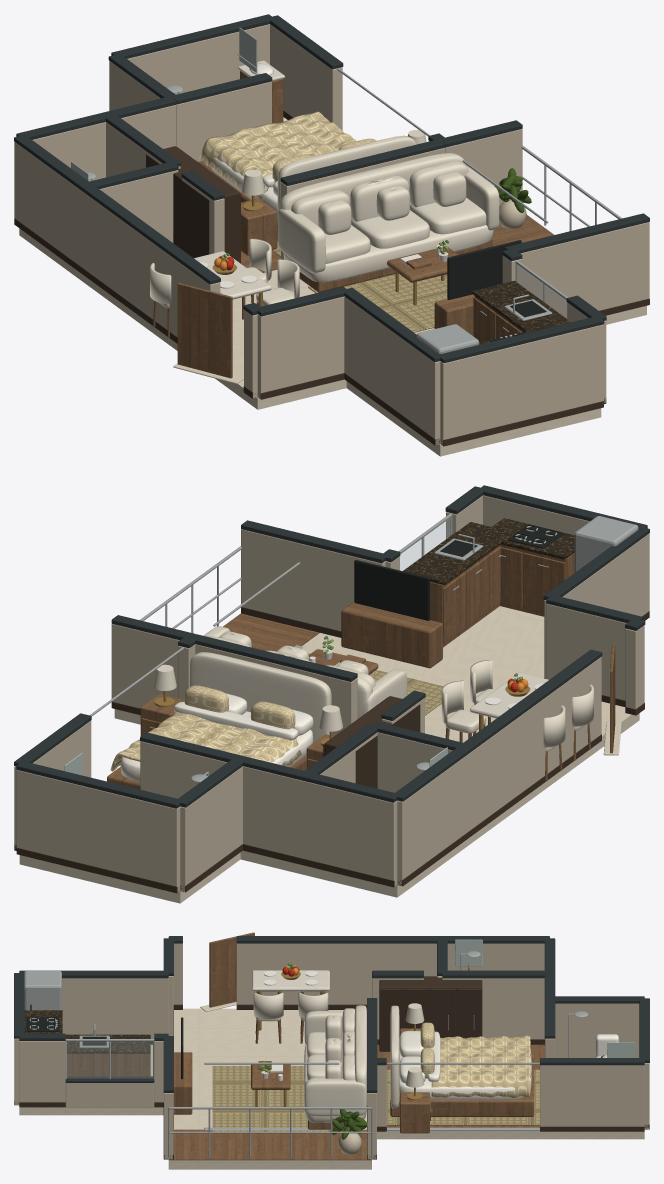
The picture shows the model from 3 angles, top to bottom: view 1: azimuth 30°, elevation 25°; view 2: azimuth 150°, elevation 25°; view 3: azimuth 270°, elevation 25°; orthographic projection. The views are drawn at different scales.
Parts seen in each view (by area): view 1: Ivory masonry.011, Ivory masonry.001, Ivory masonry.008, Ivory masonry.012, Ivory masonry.013, Apartment foundation, Soft jacquard duvet with folds.003, Ivory masonry.004, Open walnut door leaf, Dark fitted wardrobe, Ivory masonry.018, Ivory masonry.005 (+56 smaller); view 2: Apartment foundation, Ivory masonry.001, Ivory masonry.004, Ivory masonry.002, Ivory masonry.008, Padded headboard.003, Ivory masonry.003, Walnut television console, Ivory masonry.013, Ivory masonry.007, Soft jacquard duvet with folds.003, Ivory masonry.012 (+56 smaller); view 3: Apartment foundation, Ivory masonry.001, Ivory masonry.005, Ivory masonry.012, Soft jacquard duvet with folds.003, Living woven carpet, Ivory masonry.015, Ivory masonry.003, Cutaway window glazing, Ivory masonry.010, Balcony · timber deck.001, Balcony · timber deck (+72 smaller).
Boxes of the visible parts, box(x1,y1,x2,y2) form: Ivory masonry.011: box(440, 324, 603, 445); Ivory masonry.001: box(14, 142, 220, 337); Ivory masonry.008: box(520, 222, 649, 318); Ivory masonry.012: box(344, 297, 440, 445); Ivory masonry.013: box(257, 296, 344, 399); Apartment foundation: box(19, 228, 646, 456); Soft jacquard duvet with folds.003: box(199, 111, 356, 200); Ivory masonry.004: box(127, 24, 269, 94); Open walnut door leaf: box(177, 283, 232, 378); Dark fitted wardrobe: box(146, 146, 239, 262); Ivory masonry.018: box(176, 81, 271, 161); Ivory masonry.005: box(270, 24, 342, 130); Apartment foundation: box(19, 606, 639, 903); Ivory masonry.001: box(397, 657, 601, 885); Ivory masonry.004: box(16, 770, 180, 892); Ivory masonry.002: box(243, 766, 397, 886); Ivory masonry.008: box(241, 529, 385, 631); Padded headboard.003: box(189, 652, 331, 742); Ivory masonry.003: box(180, 766, 242, 891); Walnut television console: box(341, 602, 442, 668); Ivory masonry.013: box(546, 603, 626, 700); Ivory masonry.007: box(111, 624, 179, 708); Soft jacquard duvet with folds.003: box(110, 711, 301, 771); Ivory masonry.012: box(544, 533, 649, 678); Apartment foundation: box(19, 1008, 644, 1169); Ivory masonry.001: box(236, 943, 544, 1004); Ivory masonry.005: box(540, 1065, 644, 1126); Ivory masonry.012: box(62, 978, 168, 1038); Soft jacquard duvet with folds.003: box(431, 1035, 531, 1097); Living woven carpet: box(212, 1066, 329, 1131); Ivory masonry.015: box(442, 978, 544, 1039); Ivory masonry.003: box(554, 1003, 639, 1057); Cutaway window glazing: box(67, 1042, 152, 1078); Ivory masonry.010: box(19, 1041, 65, 1102); Balcony · timber deck.001: box(169, 1130, 371, 1160); Balcony · timber deck: box(174, 1129, 366, 1158).
Size of the model in its own units: 5.84 by 1.37 by 9.53.
25 materials, 6 textured.
